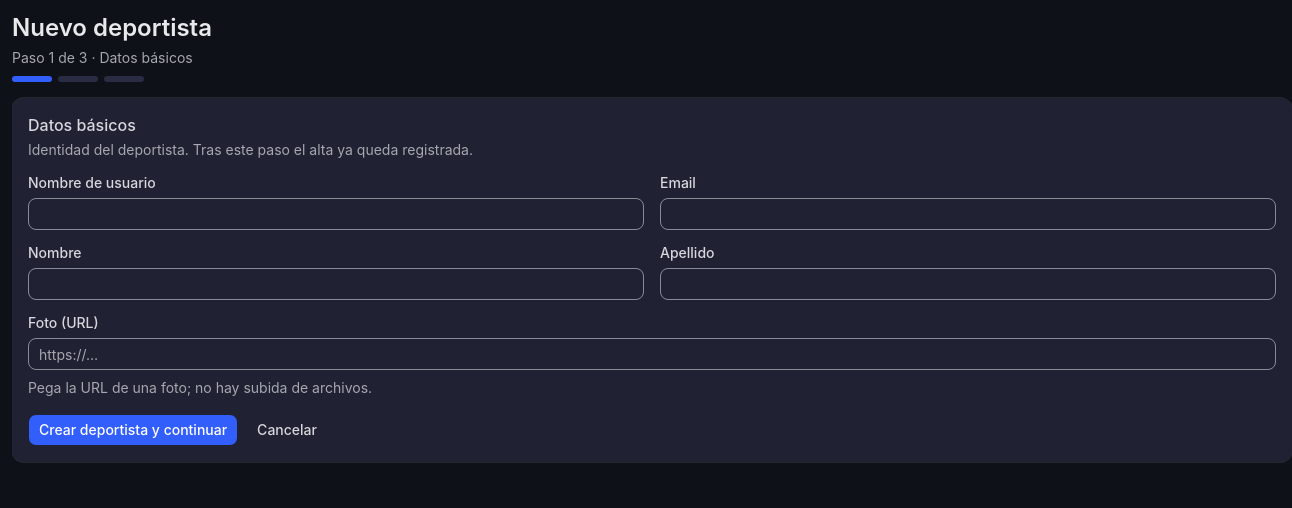
Scenario: AthleteCreatePage — paso 1 › un 409 de email duplicado cae en el campo email (no en username)
Type "mphelps" into the field with test id "athlete-form-username".
click(336, 214); type("mphelps")  # box [28,198,644,230]
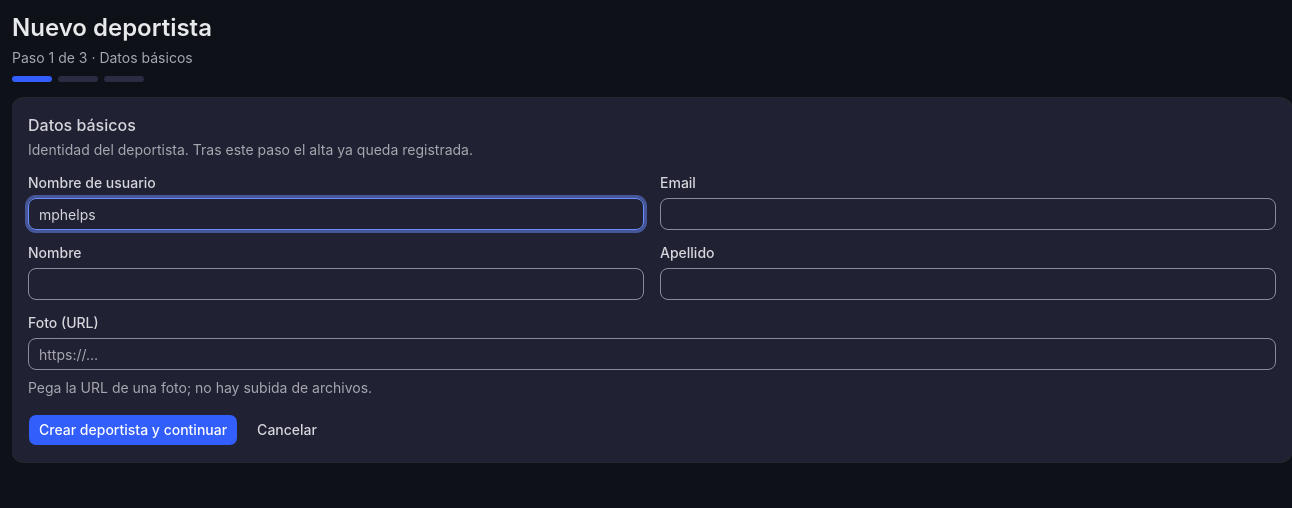
Type "mphelps@club.com" into the field with test id "athlete-form-email".
click(968, 214); type("mphelps@club.com")  # box [660,198,1276,230]
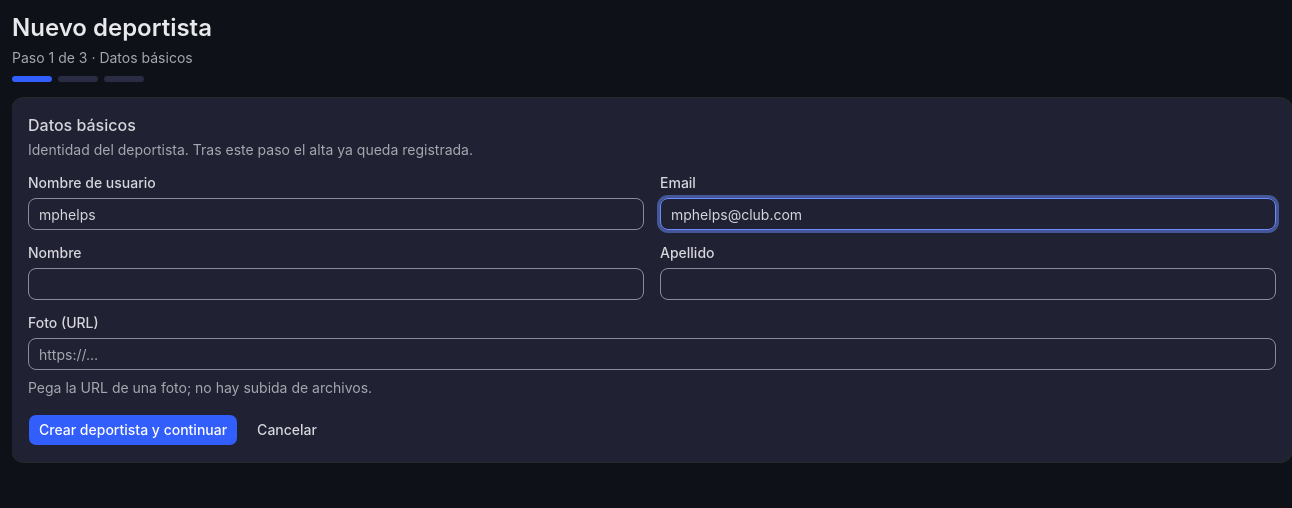
Type "Michael" into the field with test id "athlete-form-firstName".
click(336, 284); type("Michael")  # box [28,268,644,300]
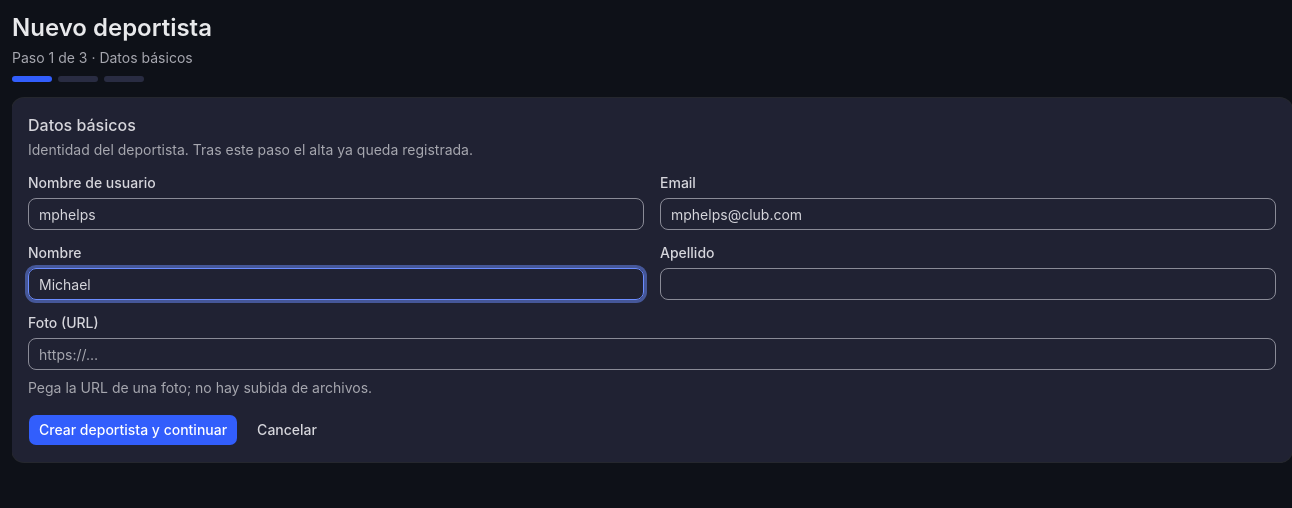
Type "Phelps" into the field with test id "athlete-form-lastName".
click(968, 284); type("Phelps")  # box [660,268,1276,300]
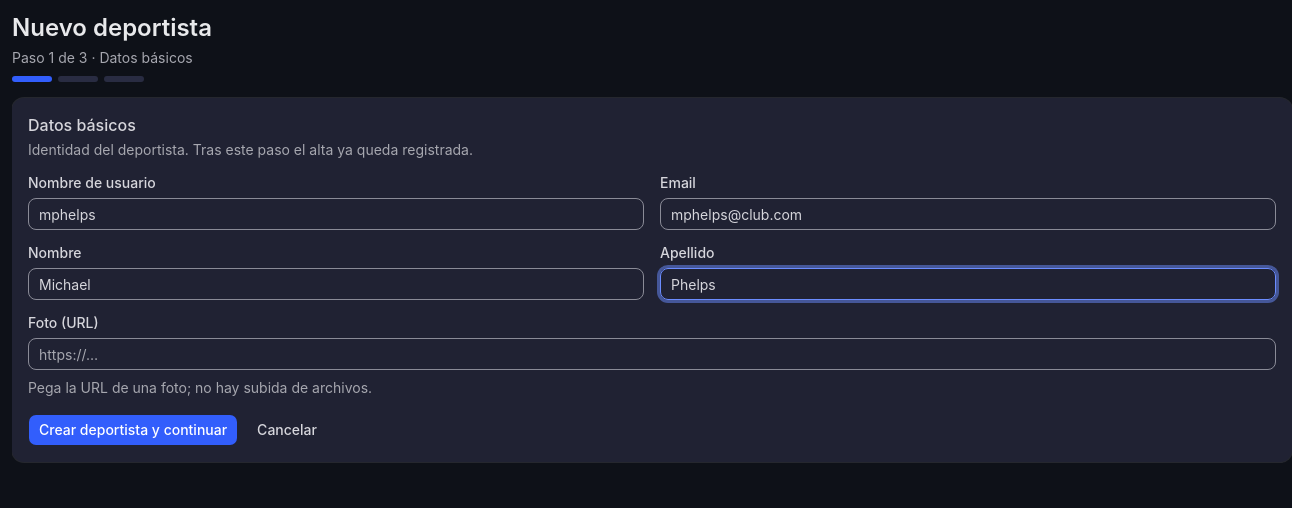
Click the button with test id "athlete-form-submit".
click(133, 430)  # box [28,414,238,446]
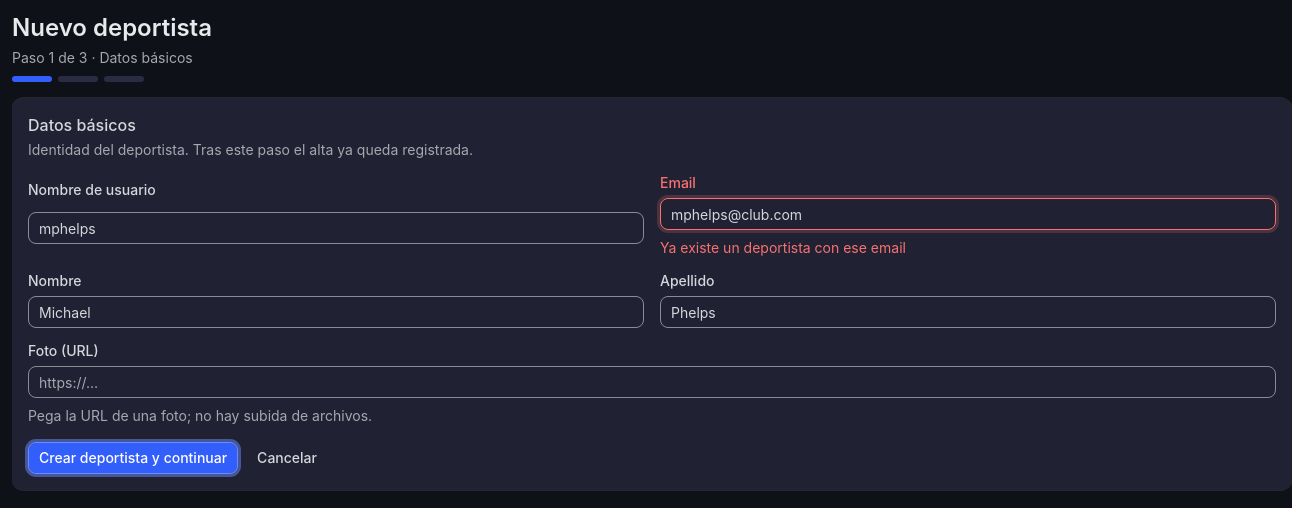
Result: the text "Ya existe un deportista con ese email" is shown at [660,239,906,256]
